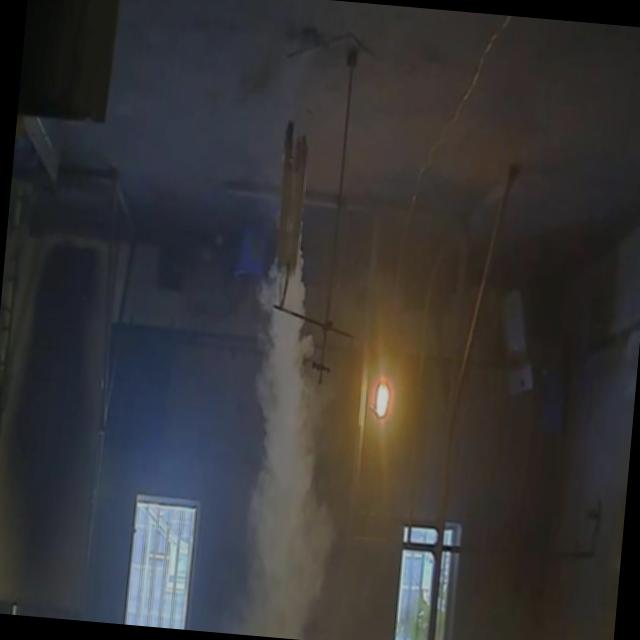smoke: (217, 202, 370, 640)
